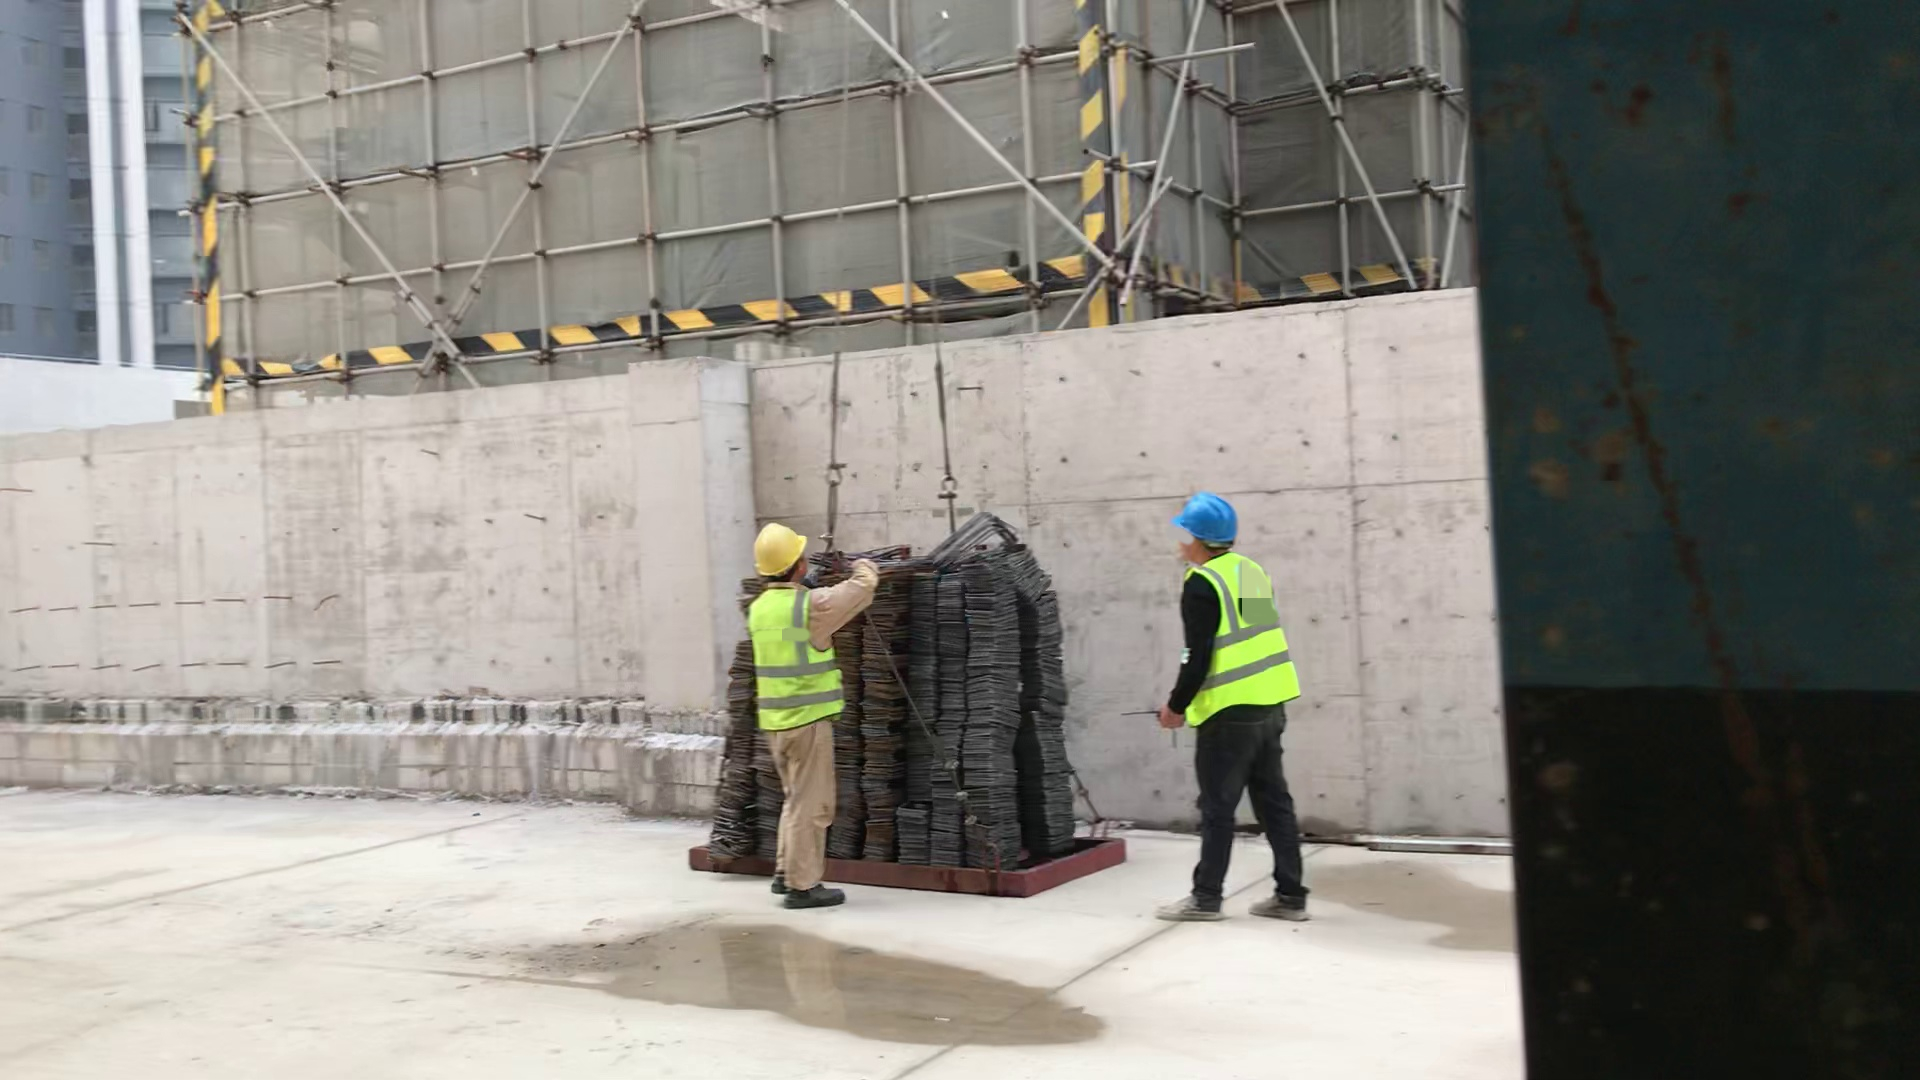helmet: (735, 514, 821, 578), (1174, 491, 1248, 549)
person: (1156, 495, 1309, 937), (752, 499, 874, 906)
vest: (1176, 562, 1303, 704), (739, 594, 852, 710)
